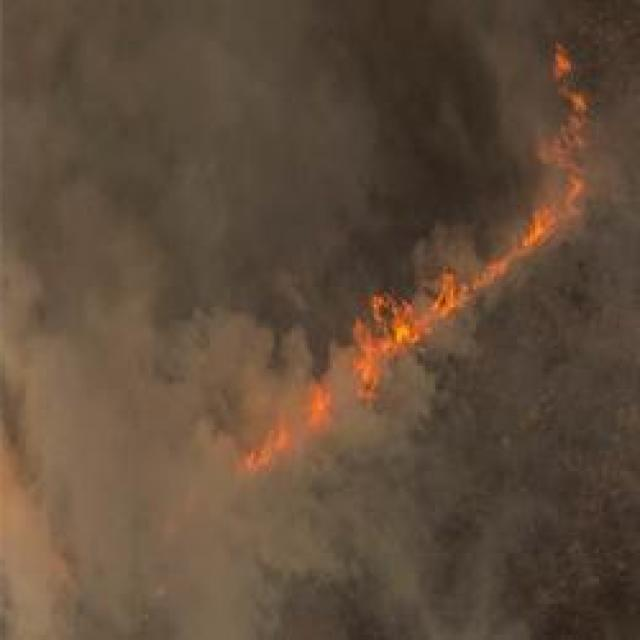fire: (358, 304, 422, 366)
smoke: (0, 158, 186, 630), (0, 7, 336, 183), (178, 454, 412, 638), (283, 50, 377, 244), (442, 486, 554, 640), (162, 318, 306, 425), (382, 357, 432, 491), (494, 34, 544, 129)
